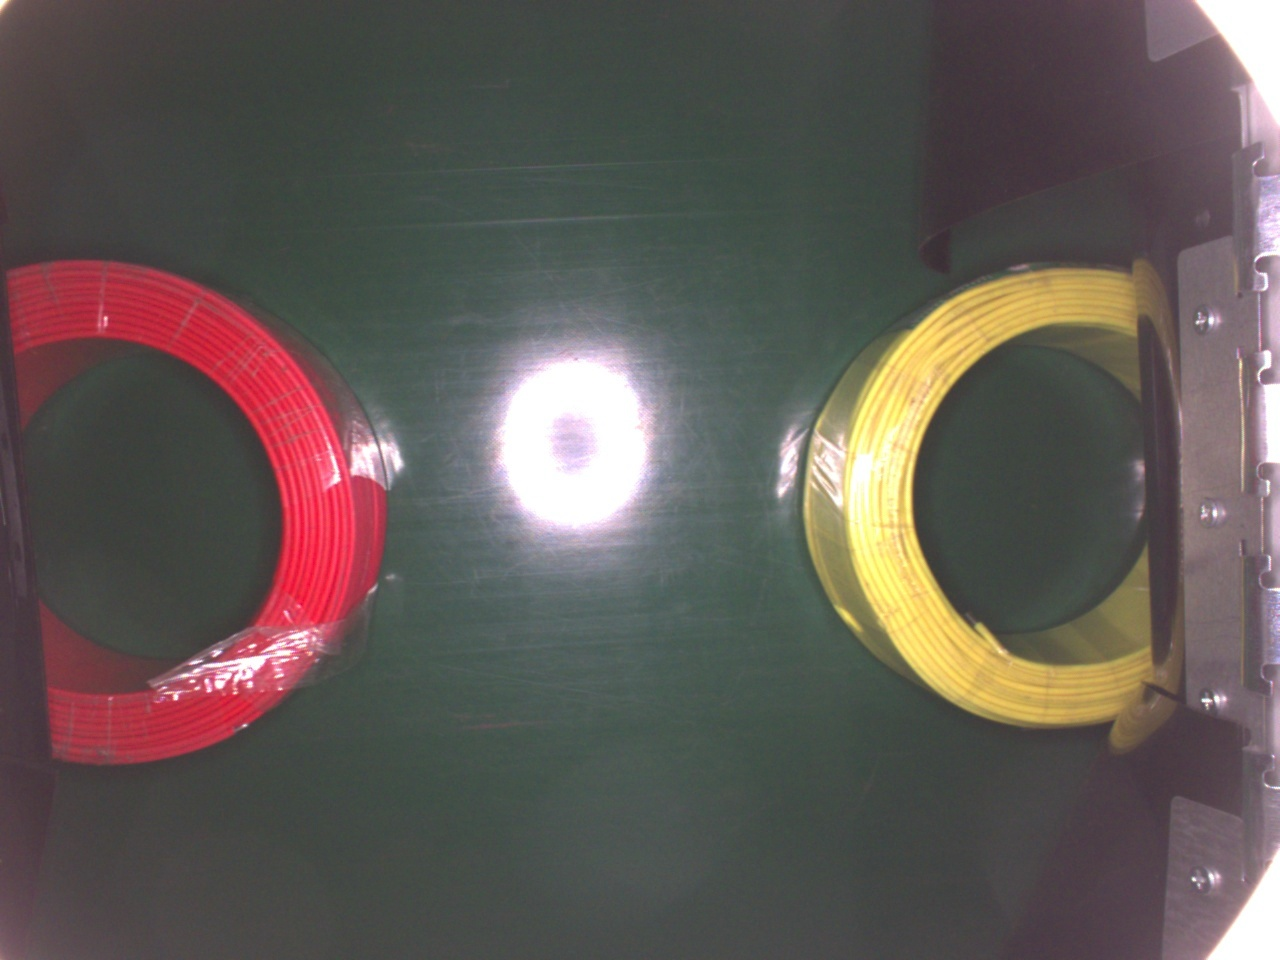red: (5, 255, 389, 768)
yellow: (800, 256, 1154, 733)
